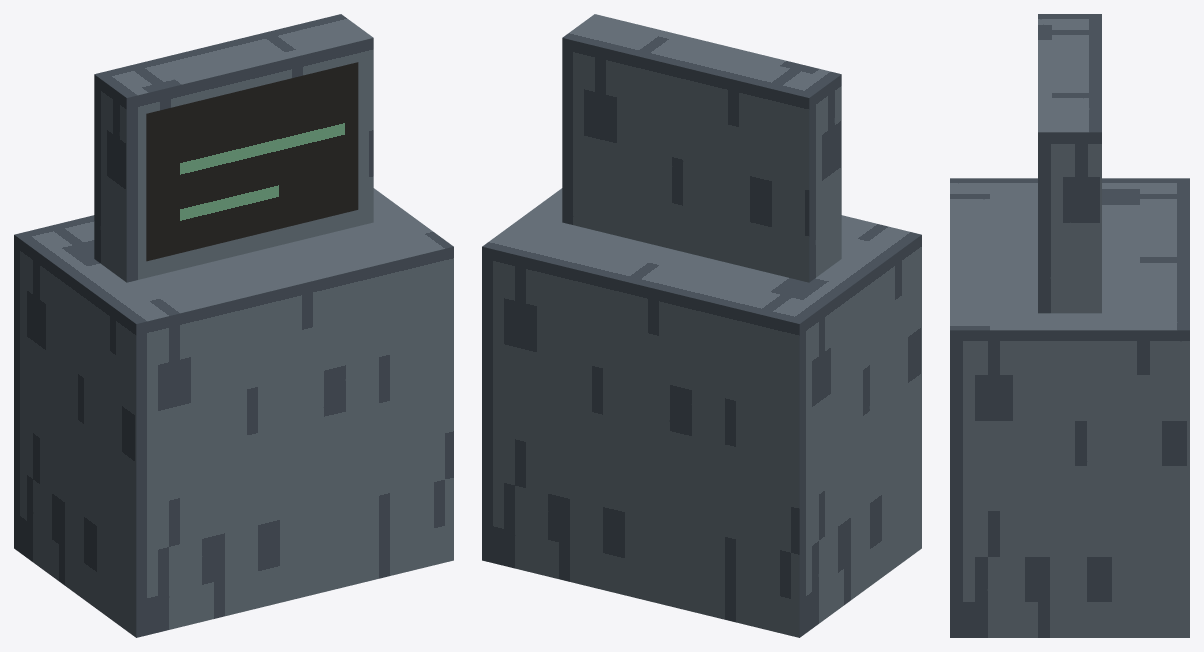
Rendered from terminal.glb.
The picture shows the model from 3 angles, left to right: view 1: azimuth 30°, elevation 25°; view 2: azimuth 150°, elevation 25°; view 3: azimuth 270°, elevation 25°; orthographic projection.
Visible parts, largest first — view 1: terminal mesh; view 2: terminal mesh; view 3: terminal mesh.
Part boxes in pixels (x1,y1,x2,y2): terminal mesh: [14, 14, 453, 637]; terminal mesh: [482, 14, 921, 637]; terminal mesh: [950, 14, 1189, 637].
Bounding box in the file's own units: 0.9 × 1.35 × 0.6.
2 materials, 2 textured.
